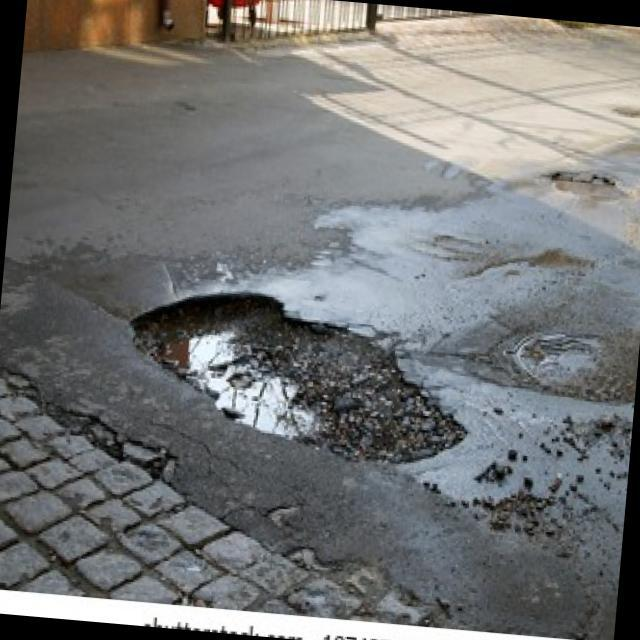Pothole: (118, 282, 477, 470), (546, 168, 634, 204)
